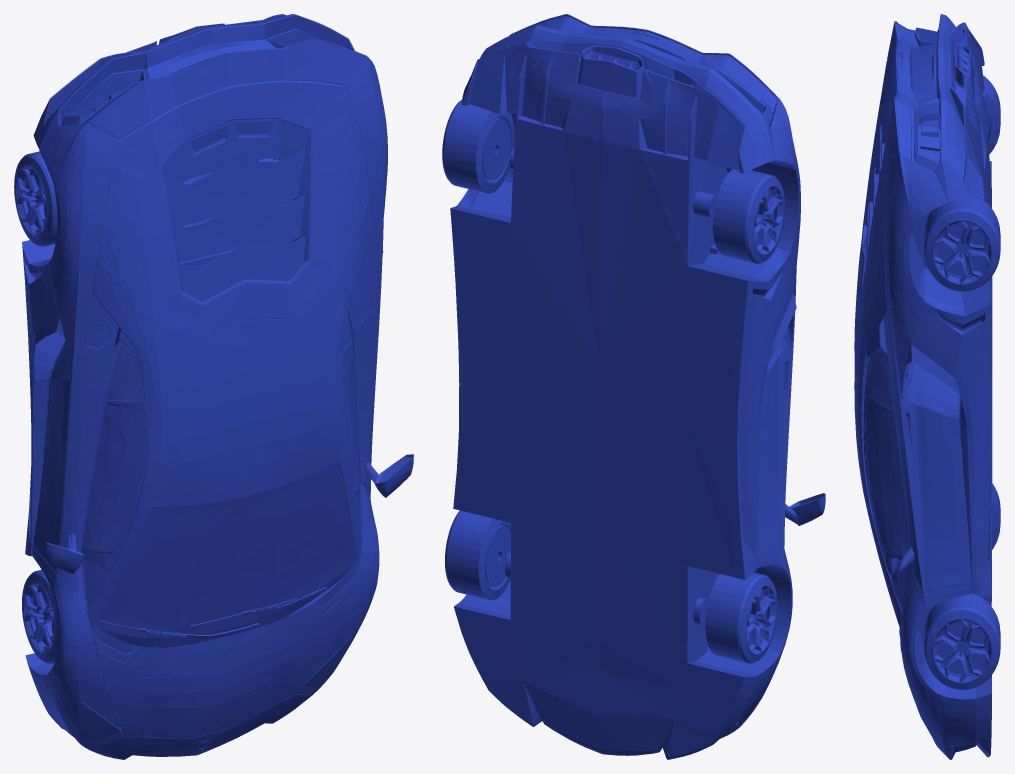
The model's file is tinker.obj.
3 renders of one model, left to right at view 1: azimuth 30°, elevation 25°; view 2: azimuth 150°, elevation 25°; view 3: azimuth 270°, elevation 25°, orthographic. The views are drawn at different scales.
Visible parts, largest first — view 1: obj_0; view 2: obj_0; view 3: obj_0.
Part boxes in pixels (x1,y1,x2,y2): obj_0: (14,14,413,759); obj_0: (442,14,825,759); obj_0: (854,14,1000,759).
Size of the model in its own units: 104 by 198 by 38.
